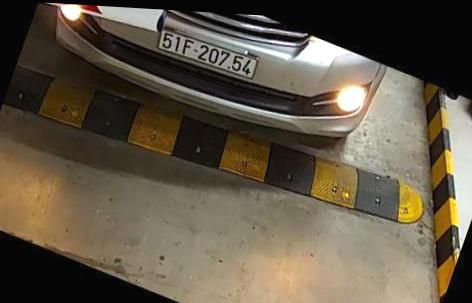License_Plate: (158, 30, 265, 97)
